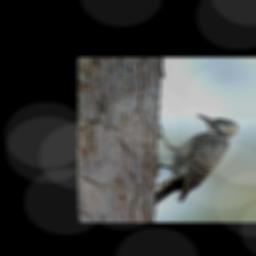Woodpecker: (146, 114, 241, 207)
